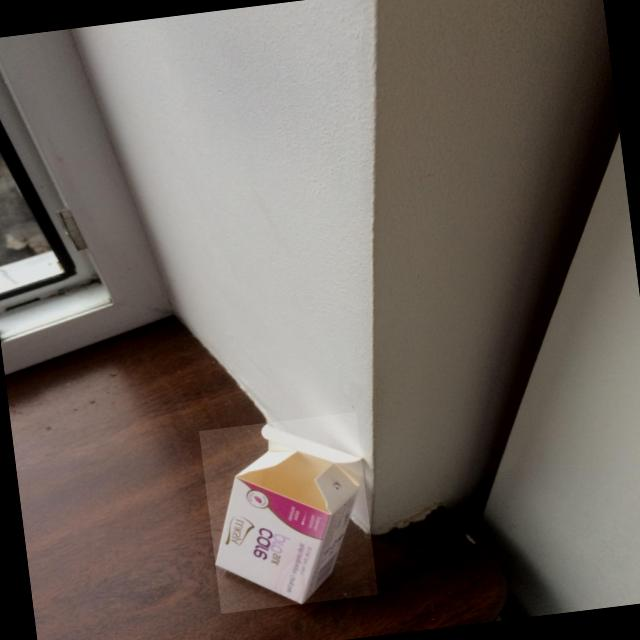Other Carton: (215, 423, 363, 603)
